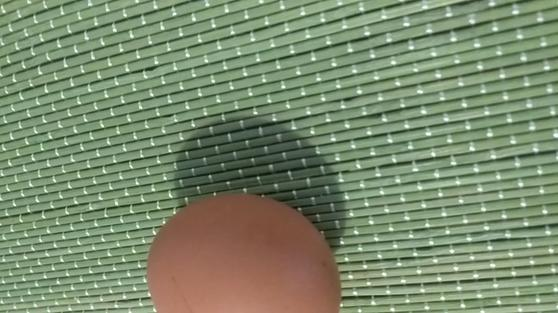egg: (148, 194, 344, 313)
